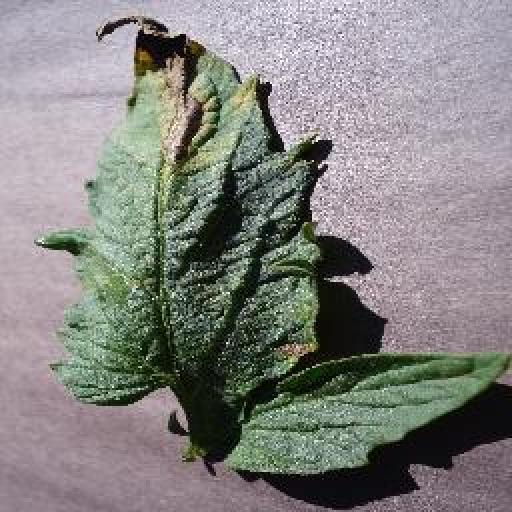Early Blight: (32, 13, 512, 479)
